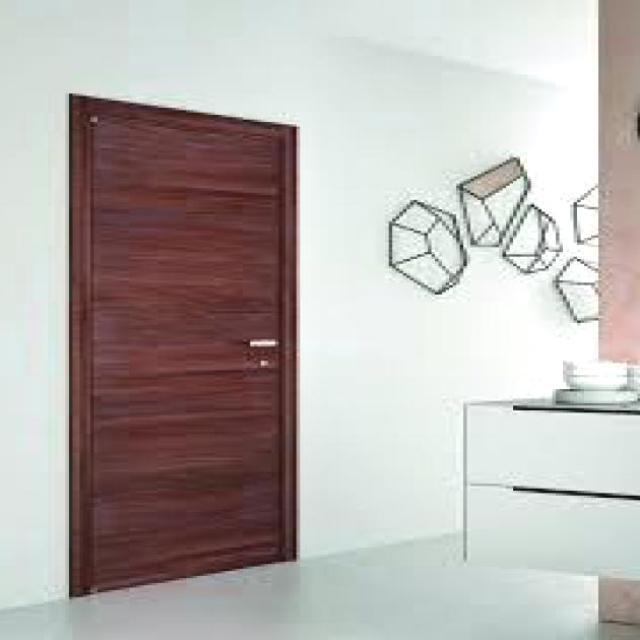door: (68, 92, 298, 595)
